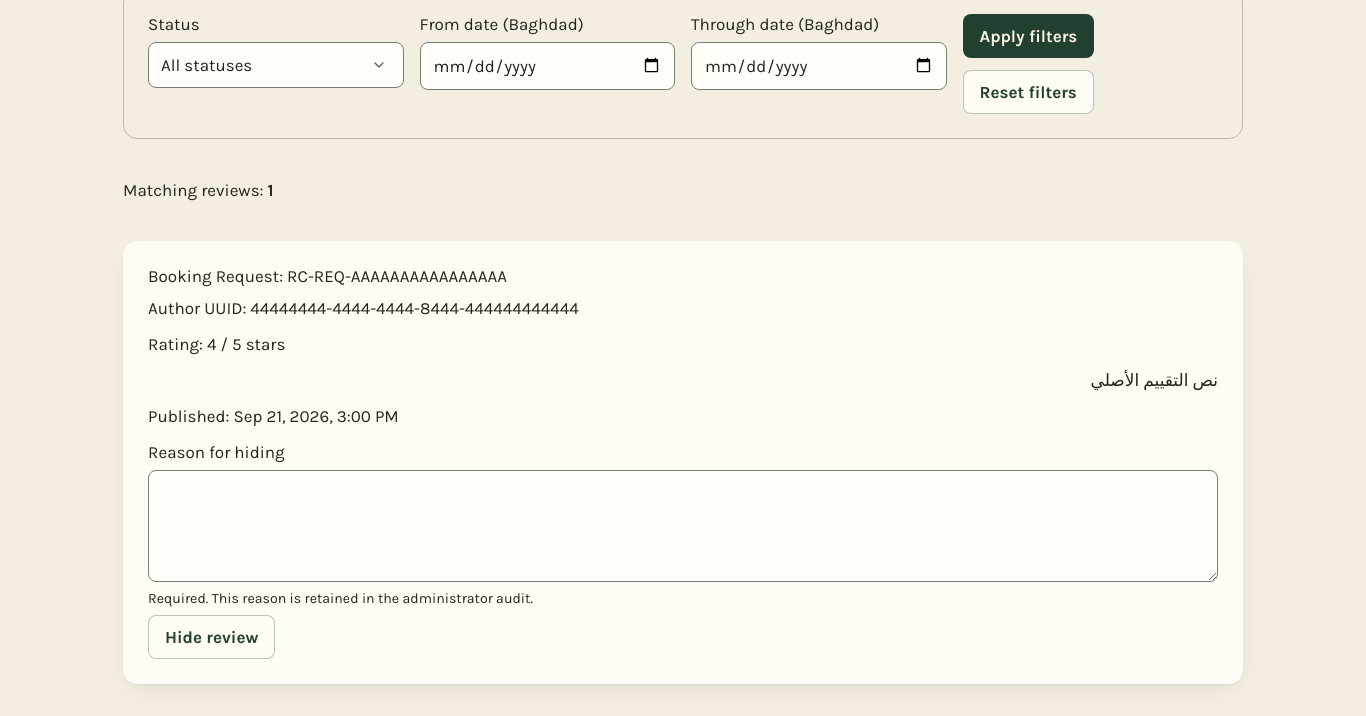
Test: CustomerReviewModeration › requires a reason, sends only mutation facts, and retains committed attribution
(page scrolled)
Click the button "Hide review".
click(212, 637)  # box x1=148 y1=615 x2=275 y2=659
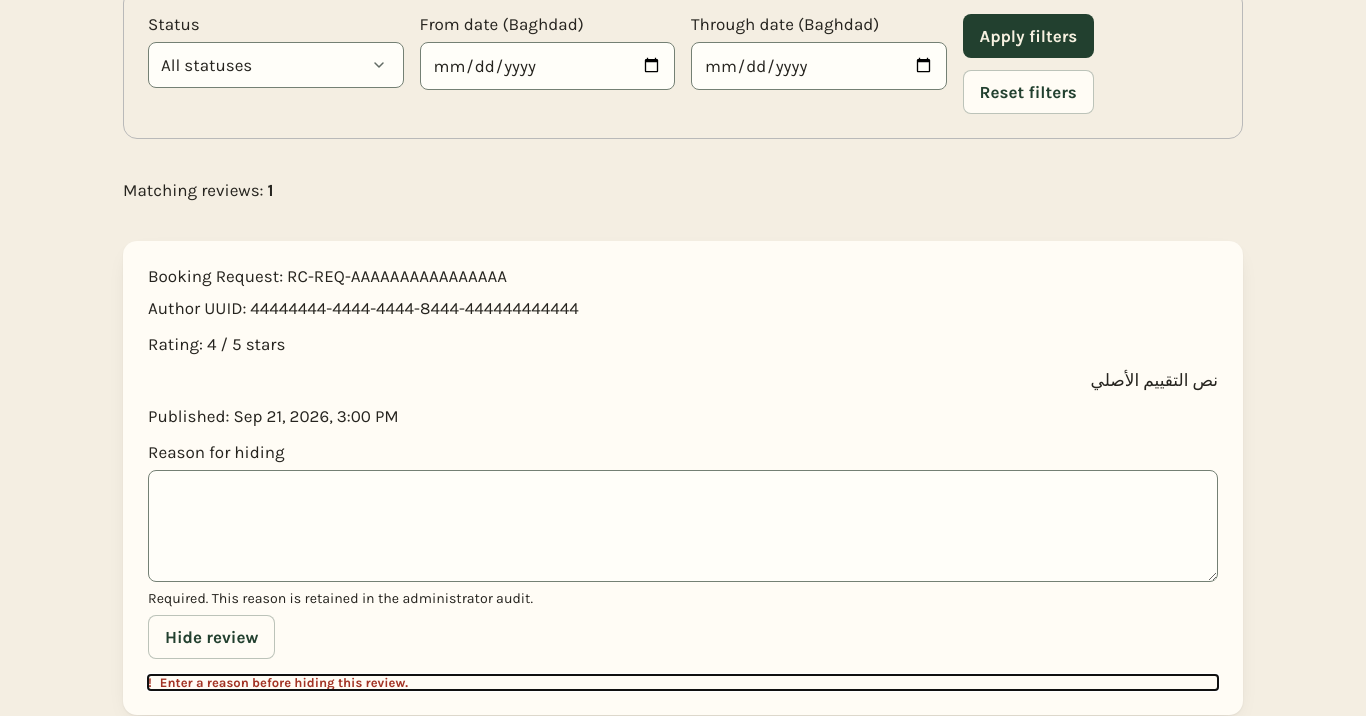
Now the message shows "Enter a reason before hiding this review.", box x1=160 y1=675 x2=408 y2=690
Type "Contains a prohibited contact detail" into the text box labelled "Reason for hiding".
click(683, 526); type("Contains a prohibited contact detail")  # box x1=148 y1=470 x2=1218 y2=582
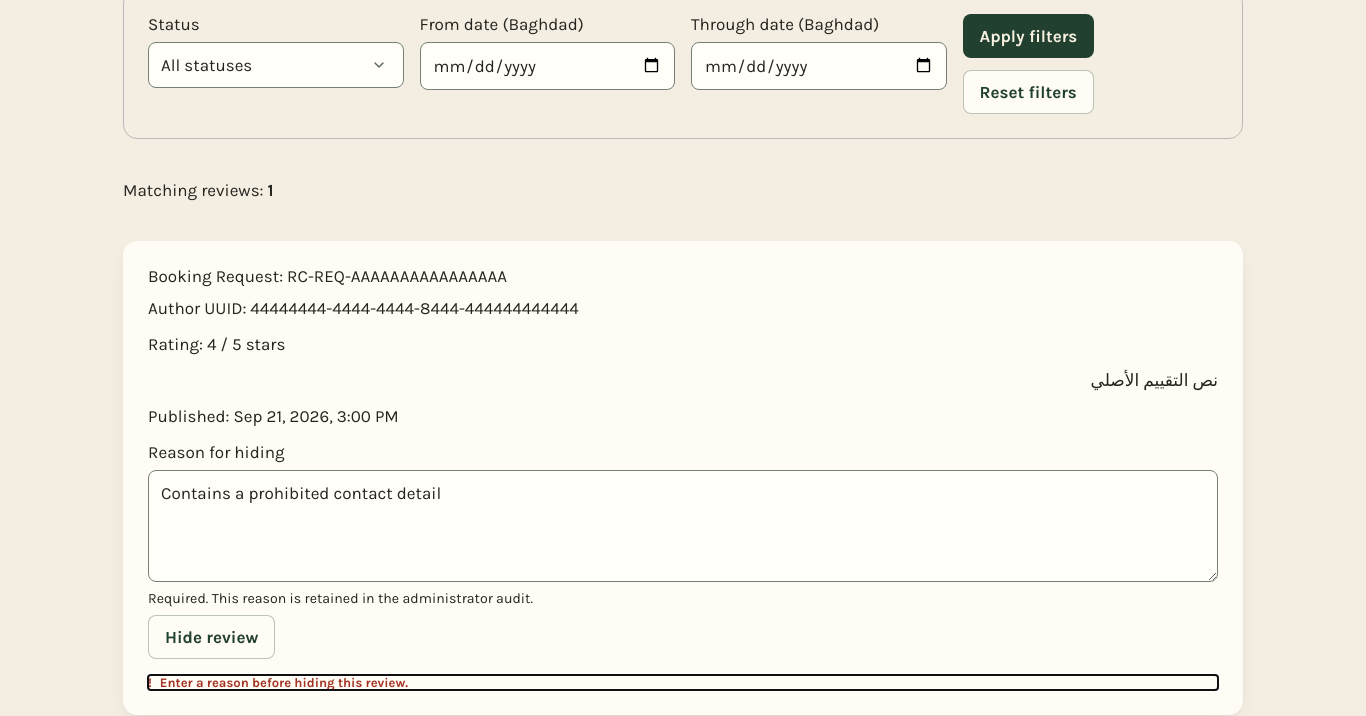
Click the button "Hide review".
click(212, 637)  # box x1=148 y1=615 x2=275 y2=659
(page scrolled)
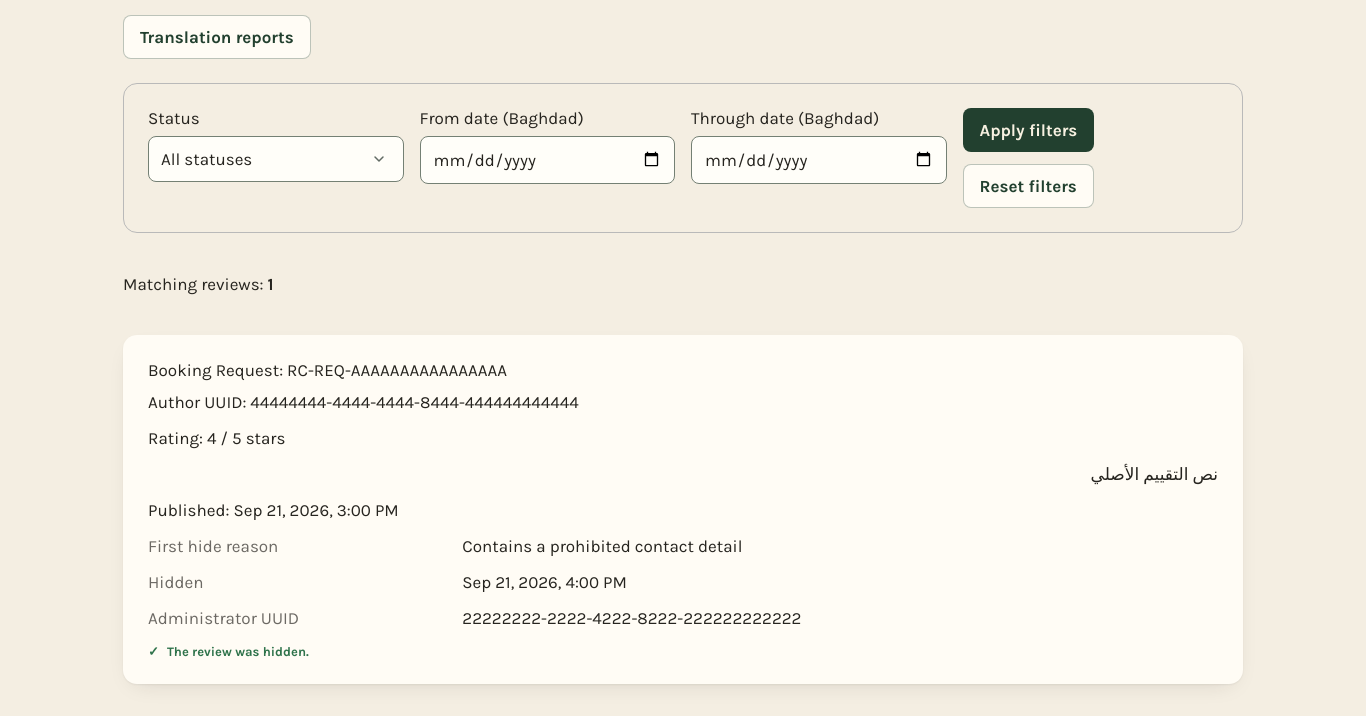
Now the message shows "The review was hidden.", box x1=167 y1=644 x2=309 y2=659
Now the element that starts with "Booking Request" shows "Contains a prohibited contact detail", box x1=462 y1=536 x2=742 y2=556
Now the element that starts with "Booking Request" shows "22222222-2222-4222-8222-222222222222", box x1=462 y1=608 x2=802 y2=628
